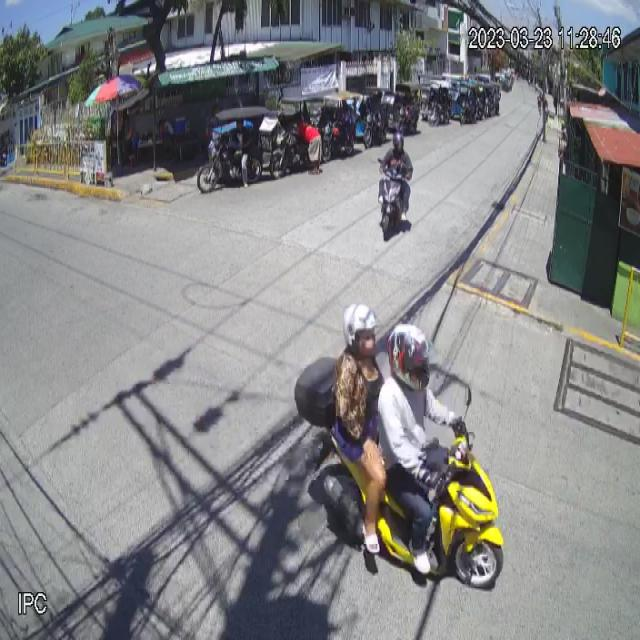Motorcycle: (308, 406, 505, 592)
